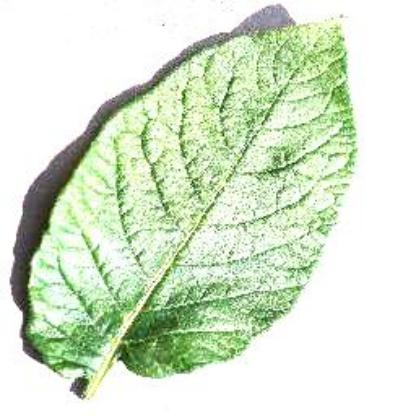Healthy-plant: (15, 19, 374, 402)
